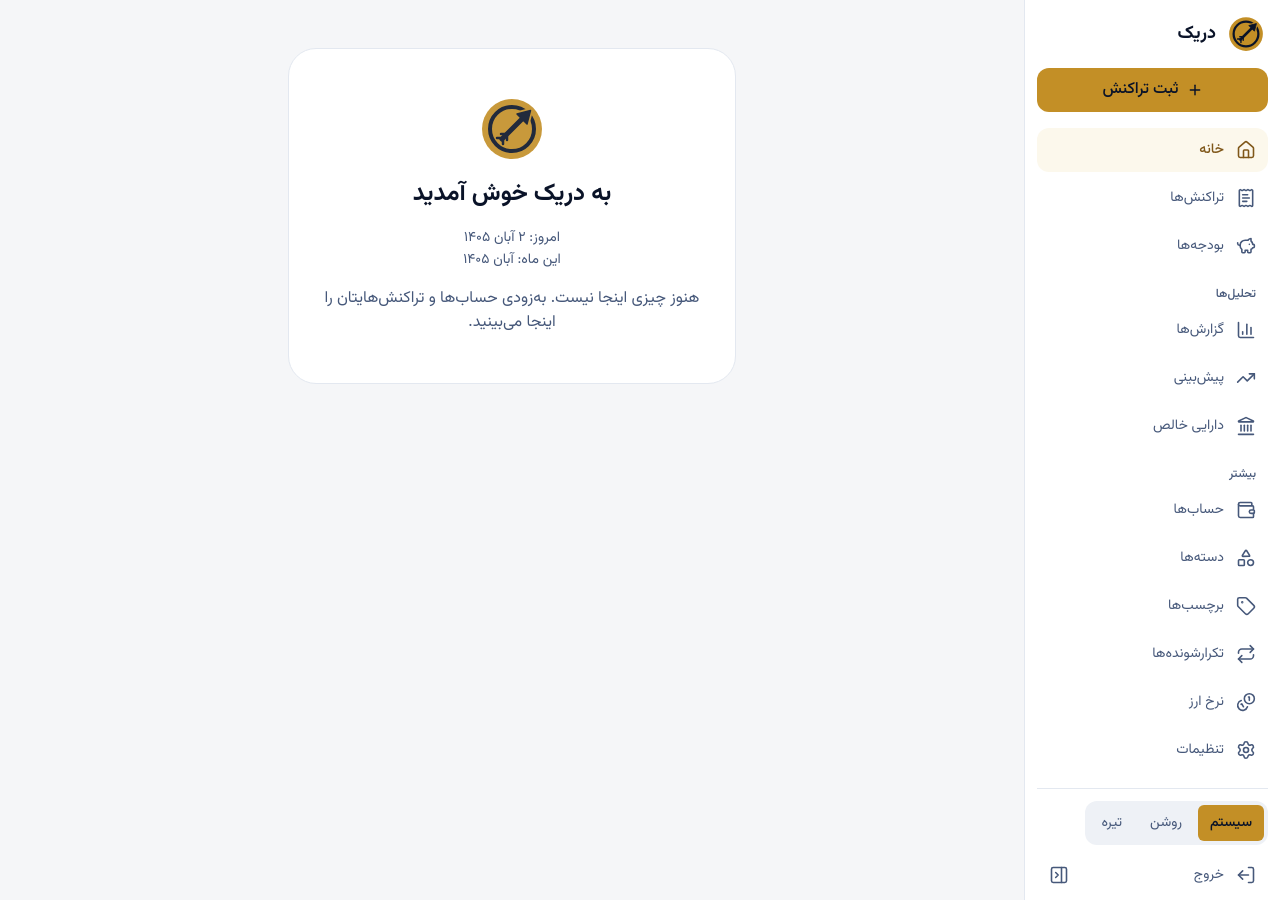
Recurring Rules › are reachable from the header
Click the link "تکرارشونده‌ها" at (1204, 654), box [1152,643,1256,665]
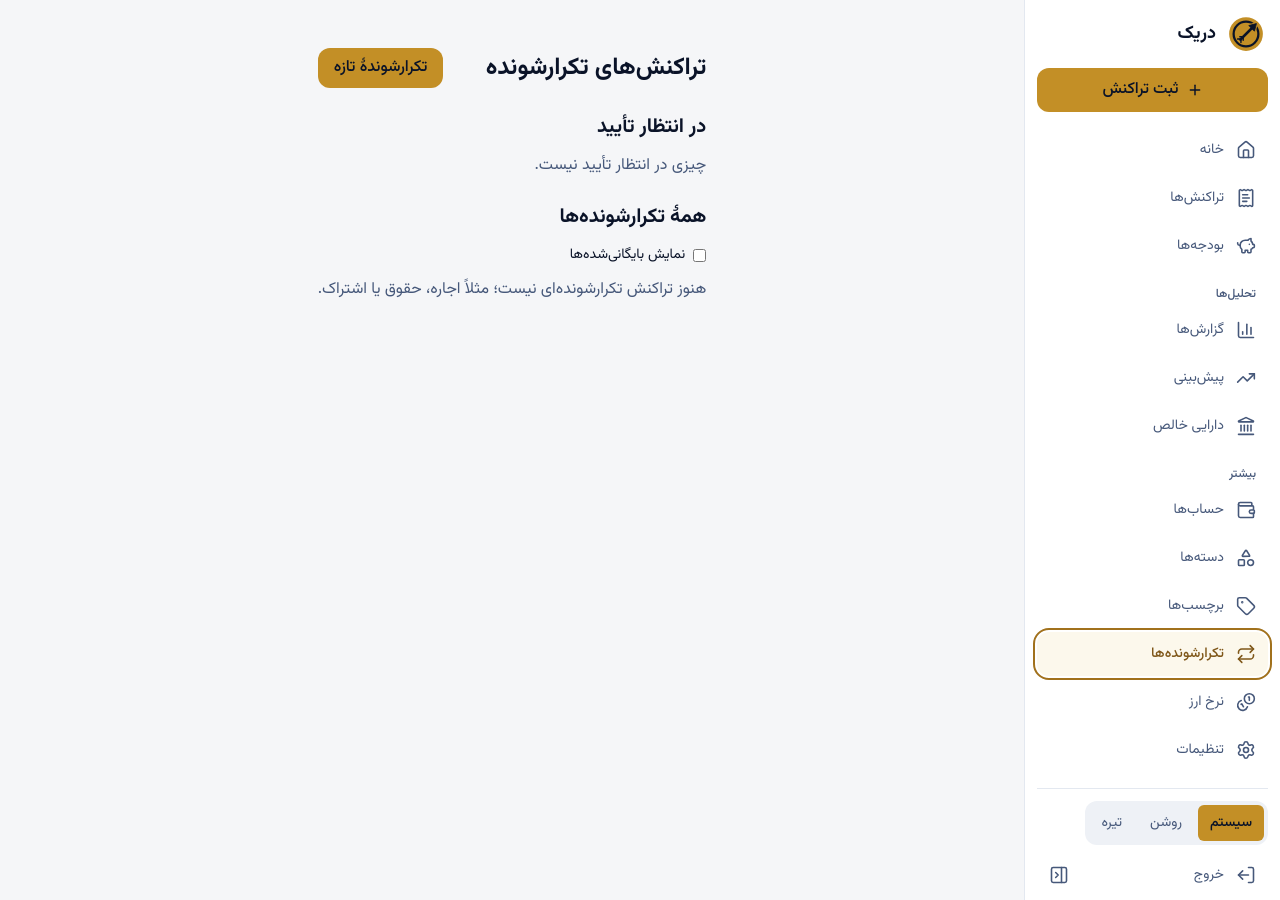
Now the text "هنوز تراکنش تکرارشونده‌ای نیست؛ مثلاً اجاره، حقوق یا اشتراک." is shown, box [318,278,706,302]
Now the text "چیزی در انتظار تأیید نیست." is shown, box [534,153,706,178]
